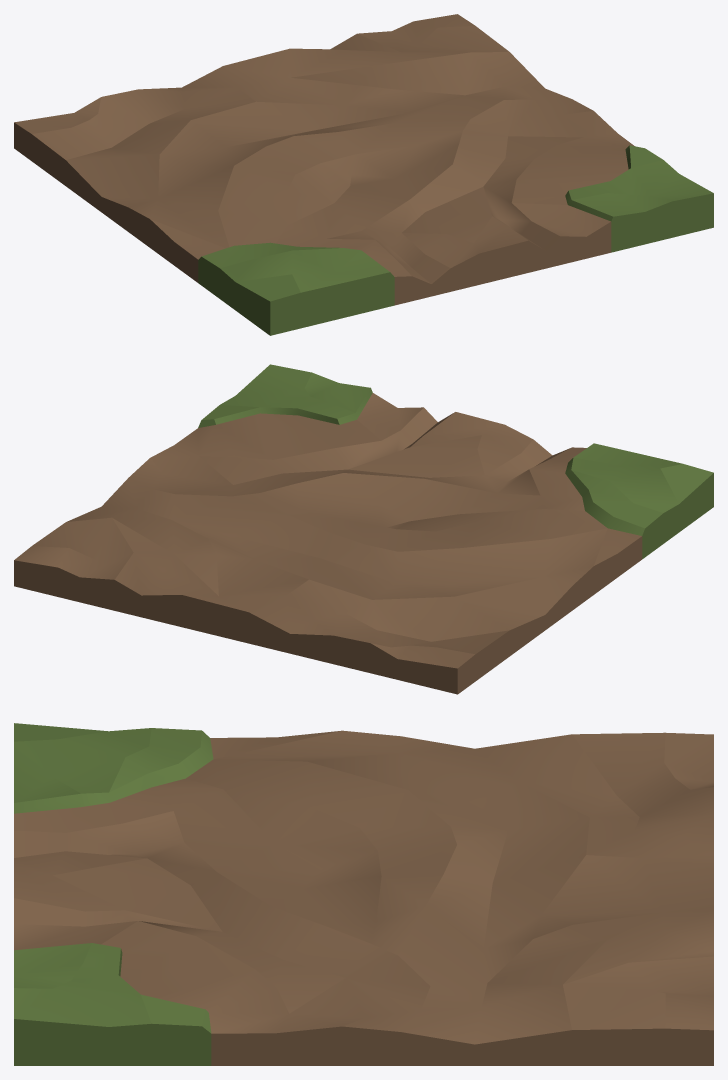
Rendered from Ground_Road_Entrance_B.glb.
3 views of the same model, one above another, from view 1: azimuth 30°, elevation 25°; view 2: azimuth 150°, elevation 25°; view 3: azimuth 270°, elevation 25° (orthographic). The views are drawn at different scales.
Parts seen in each view (by area): view 1: Ground_Road_Entrance_B; view 2: Ground_Road_Entrance_B; view 3: Ground_Road_Entrance_B.
Part boxes in pixels (x1,y1,x2,y2): Ground_Road_Entrance_B: (14,14,713,335); Ground_Road_Entrance_B: (14,364,713,694); Ground_Road_Entrance_B: (14,723,713,1065).
Bounding box in the file's own units: 1.47 × 0.1291 × 1.47.
